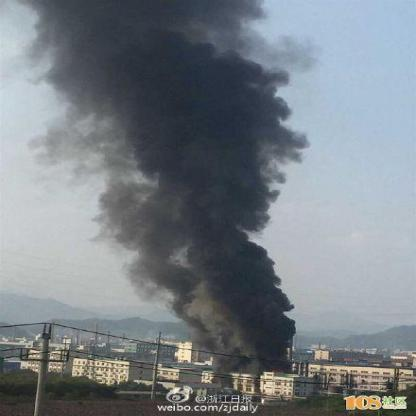smoke: (19, 5, 306, 70), (47, 123, 315, 179), (35, 72, 312, 121), (95, 180, 290, 242), (114, 242, 290, 304), (178, 304, 302, 368)
